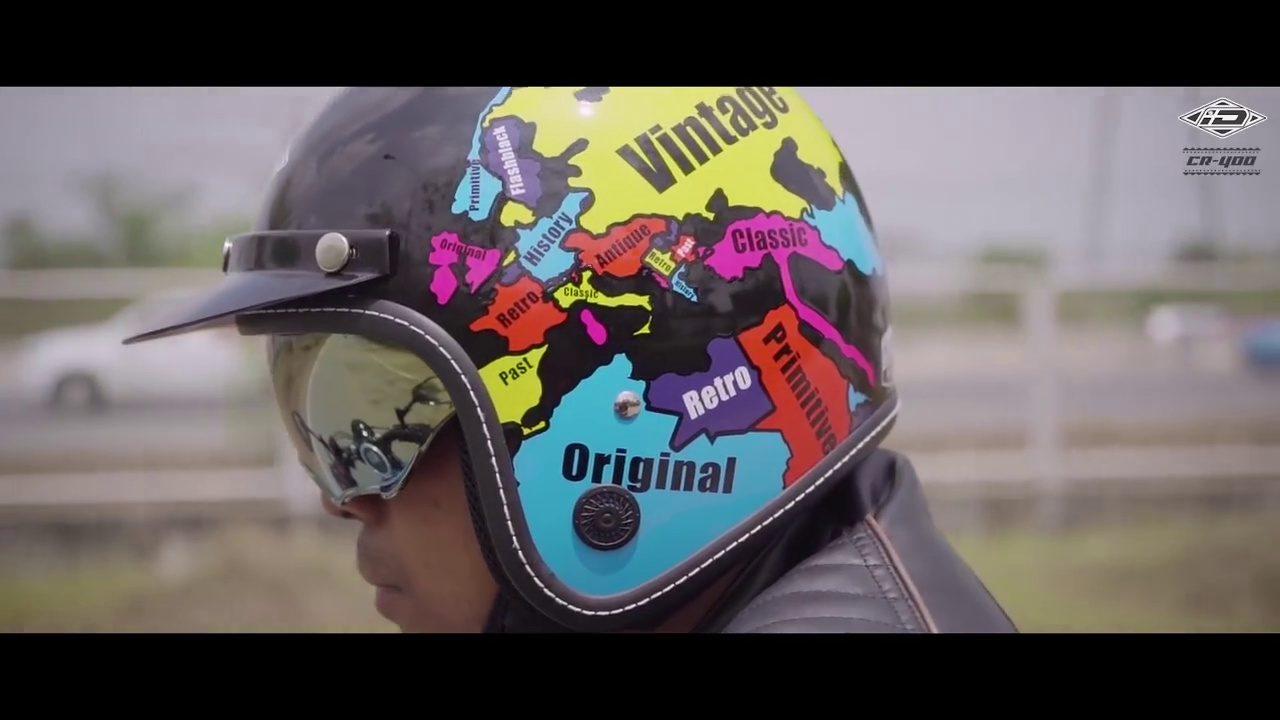helmet: (212, 85, 964, 607)
